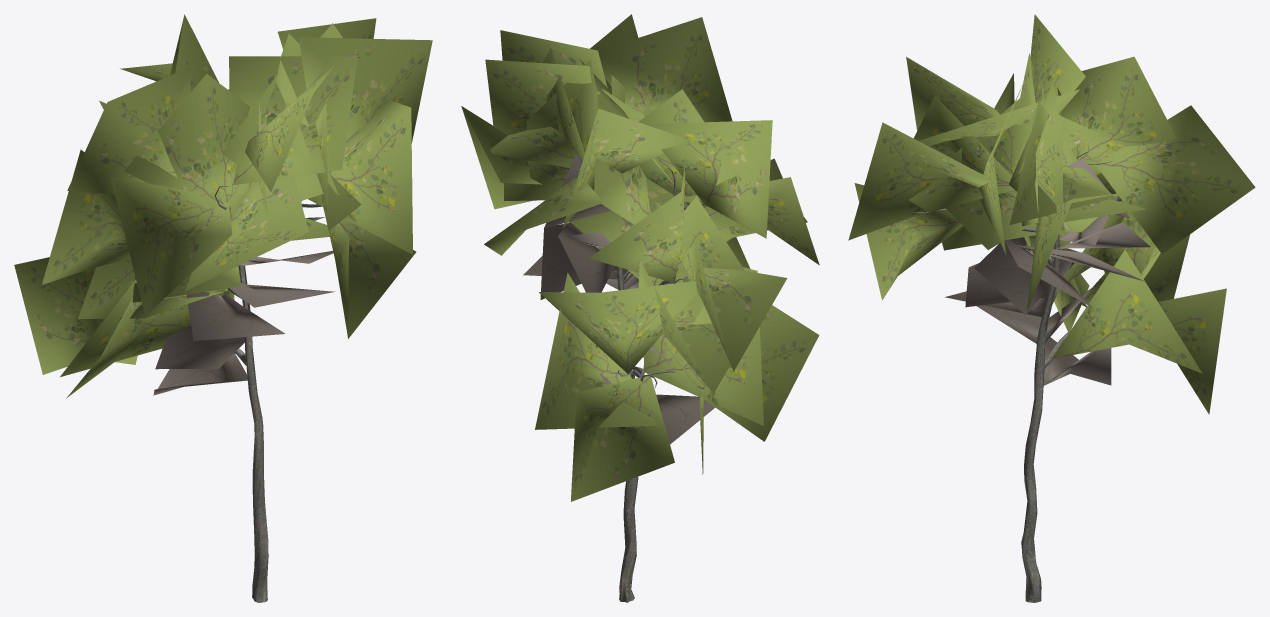
The model's file is sm_Bush_01_01.fbx.
The picture shows the model from 3 angles, left to right: view 1: azimuth 30°, elevation 25°; view 2: azimuth 150°, elevation 25°; view 3: azimuth 270°, elevation 25°; orthographic projection. The views are drawn at different scales.
Parts seen in each view (by area): view 1: sm_Bush_01_01_LOD0; view 2: sm_Bush_01_01_LOD0; view 3: sm_Bush_01_01_LOD0.
Part boxes in pixels (x1,y1,x2,y2): sm_Bush_01_01_LOD0: (14, 14, 432, 602); sm_Bush_01_01_LOD0: (461, 14, 819, 602); sm_Bush_01_01_LOD0: (848, 14, 1255, 602).
Bounding box in the file's own units: 137 × 151 × 220.
